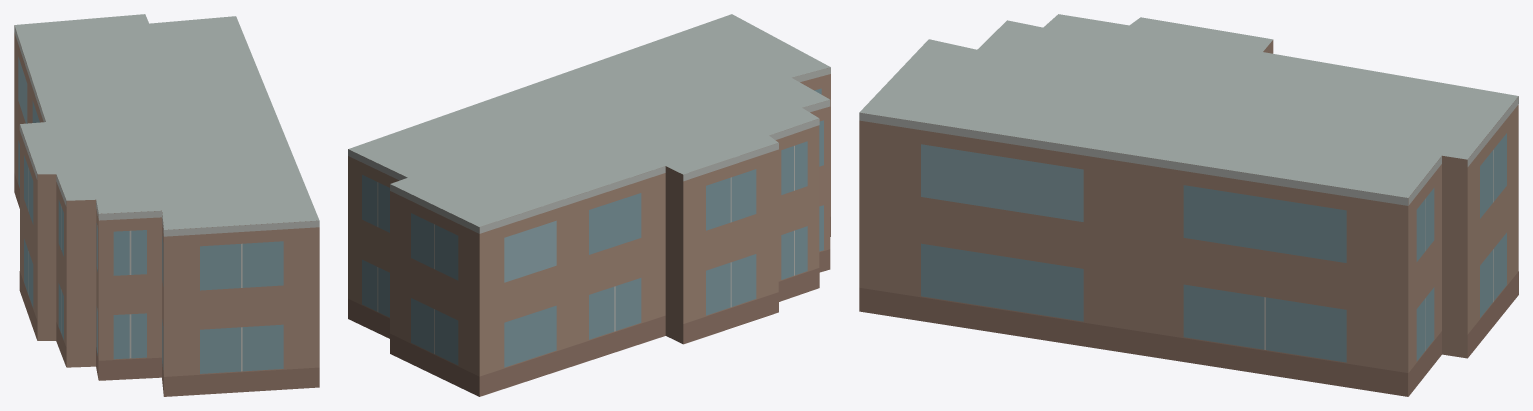
The model's file is survey-upis-32503202.glb.
3 views of the same model, side by side, from view 1: azimuth 30°, elevation 25°; view 2: azimuth 150°, elevation 25°; view 3: azimuth 270°, elevation 25° (orthographic). The views are drawn at different scales.
Visible parts, largest first — view 1: survey-upis-32503202.tmp; view 2: survey-upis-32503202.tmp; view 3: survey-upis-32503202.tmp.
Boxes of the visible parts, box(x1,y1,x2,y2) form: survey-upis-32503202.tmp: box(14, 14, 319, 396); survey-upis-32503202.tmp: box(348, 14, 830, 396); survey-upis-32503202.tmp: box(859, 14, 1518, 396).
Bounding box in the file's own units: 12.11 × 6.1 × 18.35.
